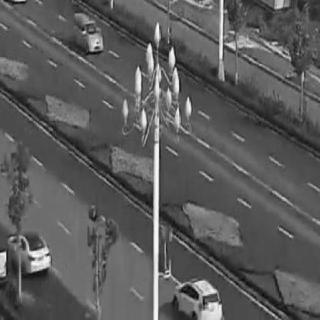other: (160, 218, 174, 272)
